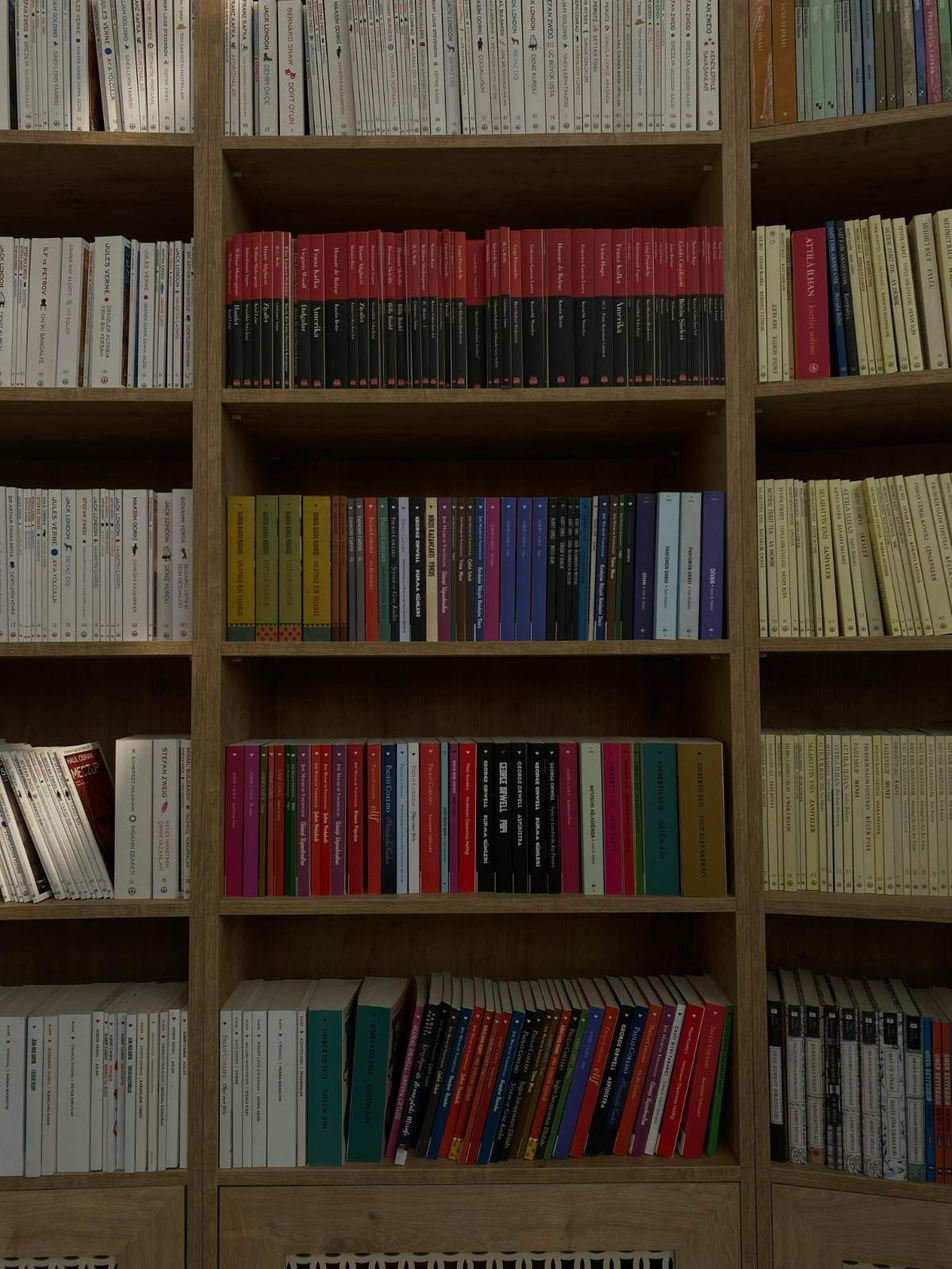book: (28, 744, 109, 899), (345, 977, 407, 1166), (673, 978, 731, 1162), (304, 979, 359, 1168), (592, 985, 651, 1160), (424, 975, 478, 1165), (628, 979, 685, 1158), (395, 973, 447, 1162), (463, 981, 515, 1165), (861, 477, 914, 634), (0, 748, 52, 902), (901, 473, 950, 635), (677, 740, 725, 898), (55, 993, 95, 1173), (828, 480, 869, 633), (113, 738, 151, 899), (866, 215, 904, 374), (269, 984, 302, 1167), (890, 215, 928, 372), (304, 2, 349, 134), (876, 981, 906, 1179), (792, 224, 830, 379), (86, 235, 124, 388), (26, 239, 63, 392), (641, 740, 677, 895), (778, 969, 805, 1167), (0, 997, 29, 1180), (847, 217, 880, 373), (812, 480, 842, 634), (902, 991, 926, 1180), (54, 235, 84, 386), (837, 982, 860, 1173), (832, 220, 860, 375), (697, 490, 726, 637), (803, 974, 825, 1166), (302, 495, 330, 644), (152, 739, 177, 901), (545, 227, 570, 387), (653, 494, 680, 641), (860, 997, 882, 1177), (675, 491, 702, 637), (122, 491, 148, 641), (94, 2, 124, 132), (227, 495, 253, 642), (277, 494, 302, 645), (324, 233, 348, 390), (579, 741, 603, 896), (249, 993, 270, 1169), (522, 228, 545, 388), (296, 231, 319, 389), (764, 227, 787, 383), (558, 740, 581, 894), (767, 977, 786, 1162), (931, 1009, 951, 1184), (931, 209, 952, 372), (823, 990, 842, 1170), (165, 990, 184, 1169), (116, 2, 142, 132), (601, 740, 623, 892), (634, 493, 657, 638), (591, 227, 612, 385), (464, 231, 485, 388), (255, 493, 277, 642), (133, 242, 155, 391), (525, 744, 547, 892), (771, 0, 797, 125), (239, 987, 257, 1167), (420, 740, 441, 894), (381, 232, 401, 390), (493, 742, 514, 892), (279, 2, 303, 133), (428, 230, 448, 387), (24, 1005, 42, 1175), (224, 745, 244, 897), (10, 238, 30, 389), (749, 2, 773, 127), (229, 1, 251, 136), (699, 1, 722, 130), (255, 2, 277, 136), (794, 480, 813, 635), (458, 740, 477, 894), (618, 741, 637, 895), (880, 735, 898, 895), (173, 491, 192, 641), (611, 228, 629, 386), (270, 234, 288, 392), (849, 737, 867, 894), (781, 735, 799, 890), (765, 481, 783, 636), (218, 997, 234, 1170), (242, 744, 260, 897), (505, 228, 522, 389), (870, 736, 887, 896), (154, 492, 172, 640), (41, 1007, 57, 1173), (379, 744, 397, 891), (804, 736, 821, 890), (60, 486, 77, 639), (172, 1, 192, 131), (365, 743, 382, 894), (330, 742, 347, 892), (485, 229, 501, 388), (134, 998, 149, 1167), (347, 744, 364, 893), (763, 736, 779, 890), (659, 1, 678, 130), (85, 1, 104, 130), (934, 733, 949, 896), (71, 0, 90, 128), (240, 232, 255, 391), (295, 744, 311, 893), (156, 998, 170, 1167), (123, 1001, 137, 1169), (153, 242, 169, 388), (830, 735, 845, 889), (1, 239, 16, 393), (157, 2, 175, 130), (447, 741, 462, 893), (47, 2, 65, 128), (16, 2, 34, 128), (271, 745, 286, 896), (78, 490, 93, 639), (283, 745, 298, 894), (48, 490, 63, 637), (143, 0, 160, 128), (921, 0, 942, 103), (840, 734, 854, 888), (4, 485, 18, 639), (925, 732, 938, 897), (32, 4, 49, 129), (756, 231, 770, 382), (170, 241, 184, 391), (179, 741, 192, 898), (898, 0, 917, 107), (774, 736, 787, 889), (224, 238, 237, 390), (820, 2, 837, 118), (181, 241, 194, 390), (223, 1, 237, 135), (795, 1, 811, 118), (837, 1, 853, 115), (860, 1, 876, 113), (757, 483, 769, 632), (872, 0, 888, 111), (911, 1, 928, 104), (889, 0, 905, 108), (849, 2, 864, 114), (113, 485, 124, 629), (936, 0, 951, 97)
